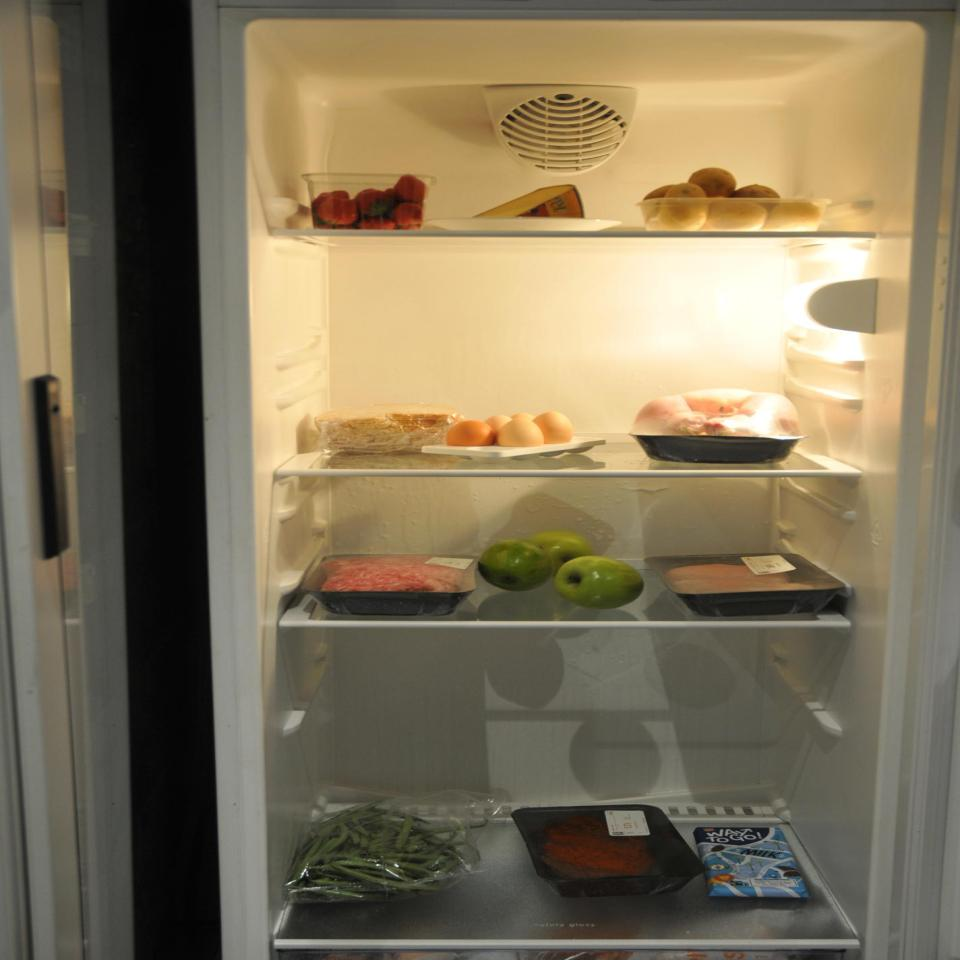Carne pollo: (628, 376, 813, 466), (639, 549, 851, 618)
Huevos: (445, 410, 573, 458)
Manzana: (472, 523, 652, 618)
Queso: (459, 177, 595, 231)
strawberries: (308, 170, 434, 232)
